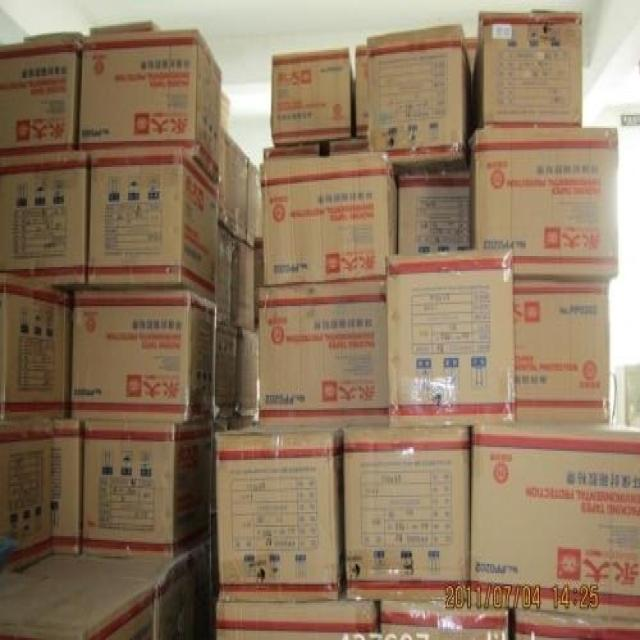box: (470, 427, 640, 620), (385, 249, 516, 427), (216, 423, 346, 601), (468, 130, 620, 280), (344, 425, 470, 603), (78, 28, 221, 184), (87, 147, 219, 302), (19, 538, 211, 640), (72, 289, 216, 423), (257, 276, 388, 423), (261, 150, 399, 286), (82, 421, 212, 558), (369, 24, 475, 174), (515, 278, 609, 427), (0, 148, 88, 293), (475, 11, 582, 128), (0, 271, 72, 423), (0, 571, 156, 640), (0, 35, 82, 156), (0, 423, 54, 579), (273, 48, 355, 145), (215, 601, 378, 640), (398, 173, 472, 254), (380, 601, 509, 640), (515, 608, 640, 640), (54, 421, 83, 555), (218, 130, 248, 243), (214, 321, 239, 416), (232, 237, 255, 332), (237, 328, 259, 417), (216, 223, 234, 323), (355, 43, 369, 137), (90, 22, 164, 33), (220, 91, 232, 135)
